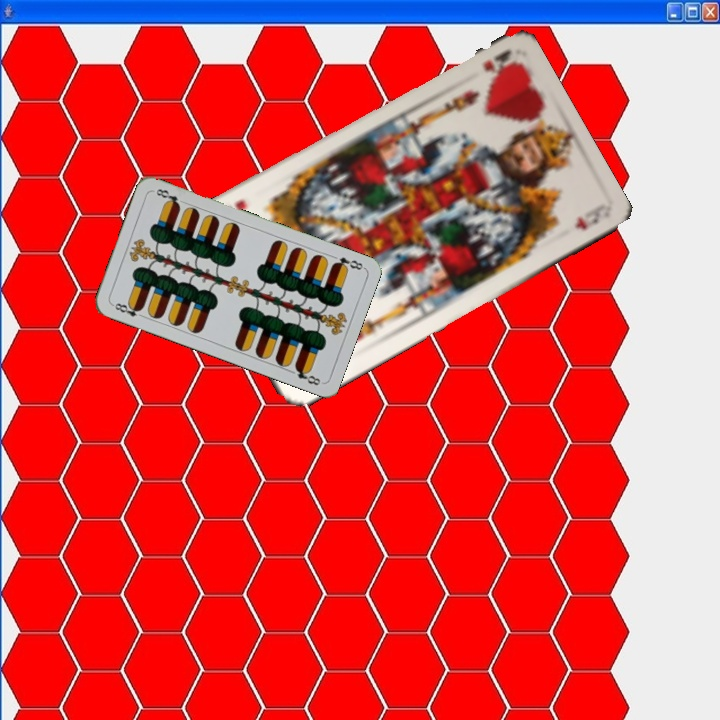E8: (108, 299, 147, 320), (329, 253, 366, 273)
HK: (479, 46, 518, 76)
